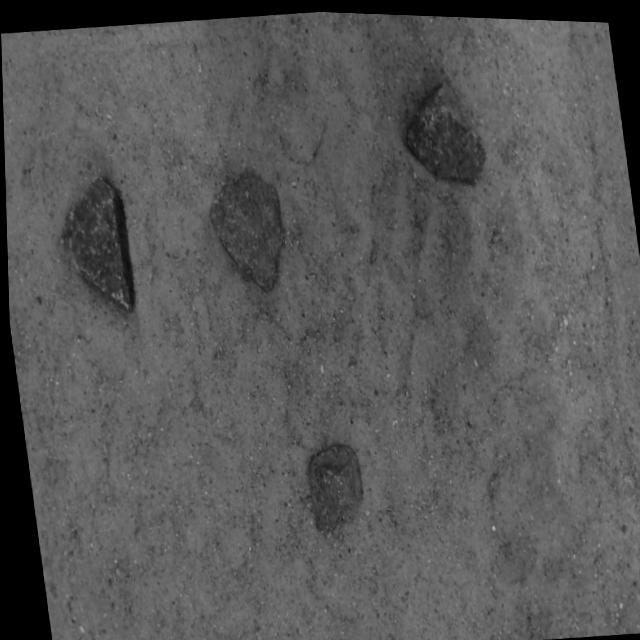rock: (59, 176, 130, 308), (208, 169, 280, 289), (404, 78, 484, 179), (305, 442, 358, 529)
